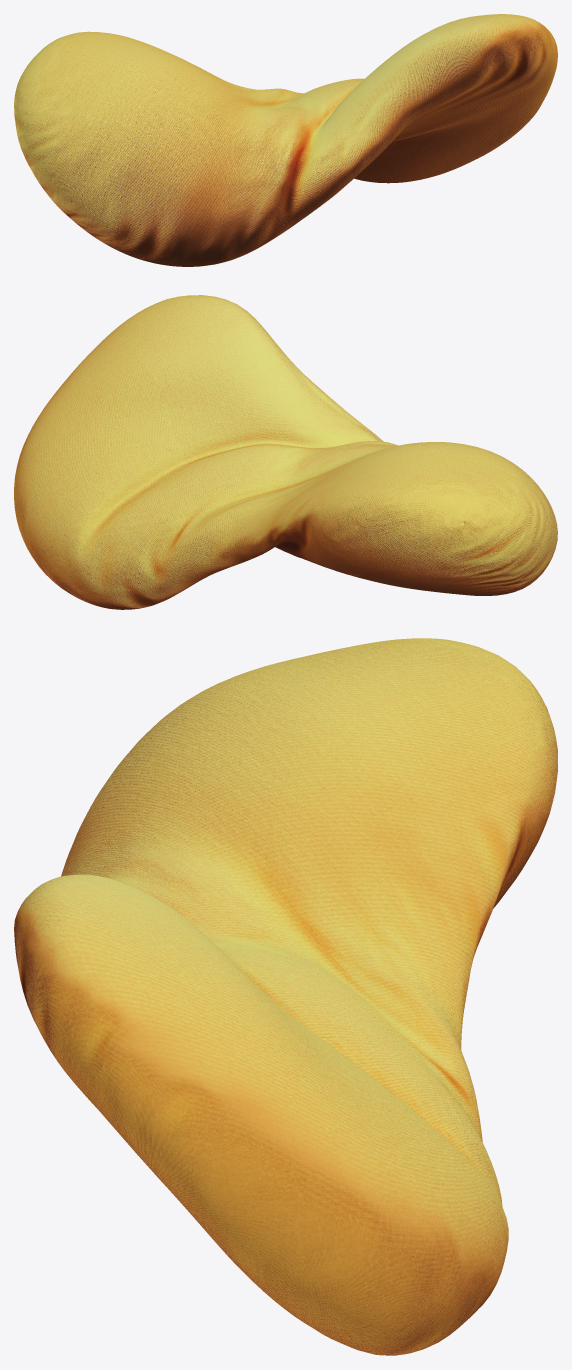
Rendered from cloth-opt.0adeff9b.glb.
3 renders of one model, top to bottom at view 1: azimuth 30°, elevation 25°; view 2: azimuth 150°, elevation 25°; view 3: azimuth 270°, elevation 25°, orthographic. The views are drawn at different scales.
Parts seen in each view (by area): view 1: Retopo_FABRICK001_Baked; view 2: Retopo_FABRICK001_Baked; view 3: Retopo_FABRICK001_Baked.
Part boxes in pixels (left/top/right/bottom): Retopo_FABRICK001_Baked: left=14, top=14, right=557, bottom=266; Retopo_FABRICK001_Baked: left=14, top=295, right=557, bottom=609; Retopo_FABRICK001_Baked: left=14, top=638, right=557, bottom=1355.
Bounding box in the file's own units: 8 × 3.5 × 4.04.
Materials: 1 (1 with a texture image).
